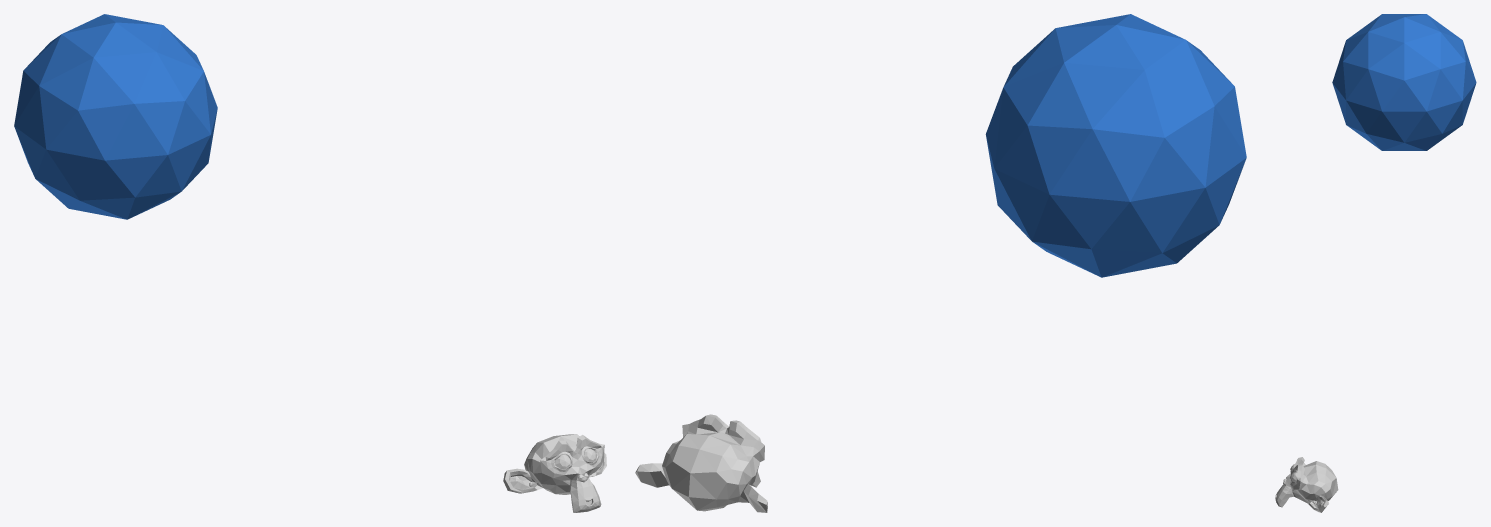
3 views of the same model, side by side, from view 1: azimuth 30°, elevation 25°; view 2: azimuth 150°, elevation 25°; view 3: azimuth 270°, elevation 25° (orthographic). The views are drawn at different scales.
Visible parts, largest first — view 1: Icosphere, Suzanne; view 2: Icosphere, Suzanne; view 3: Icosphere, Suzanne.
Boxes of the visible parts, x1,y1,x2,y2 form: Icosphere: (14, 14, 217, 219); Suzanne: (503, 434, 606, 512); Icosphere: (985, 14, 1246, 277); Suzanne: (635, 414, 767, 512); Icosphere: (1332, 14, 1476, 150); Suzanne: (1275, 457, 1338, 512).
Size of the model in its own units: 5.75 by 2.79 by 5.48.
